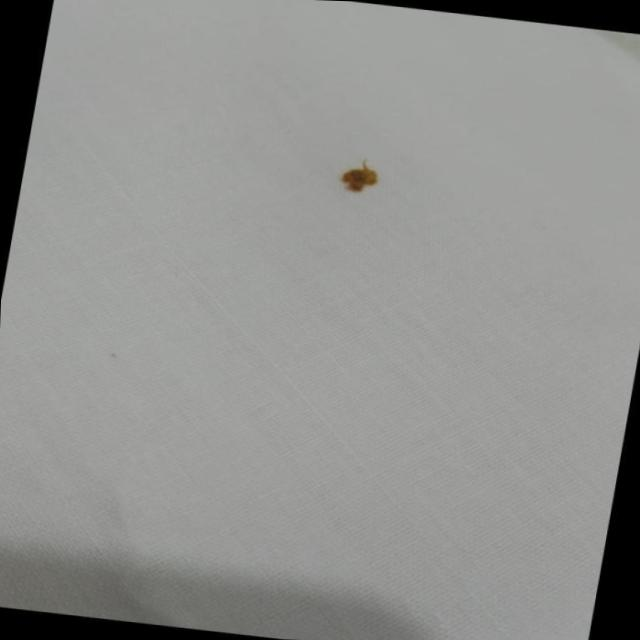stain: (330, 156, 392, 205)
